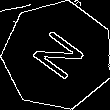N_SE: (25, 24, 90, 86)
